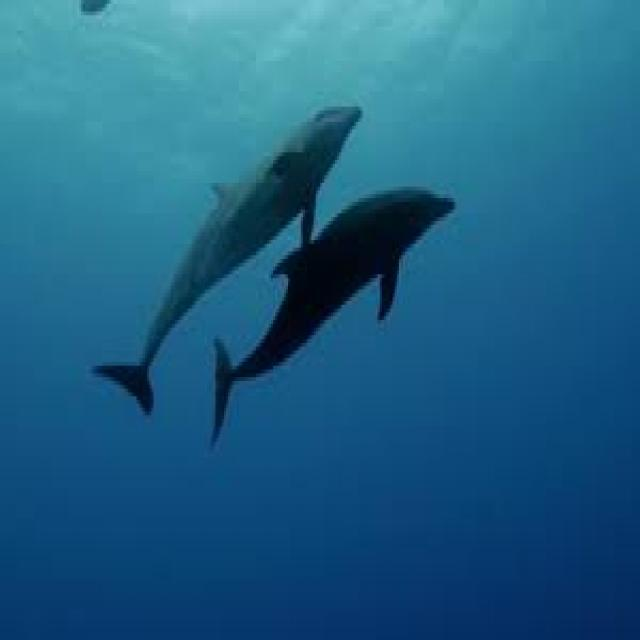dolphin: (56, 49, 360, 500), (206, 156, 469, 492)
